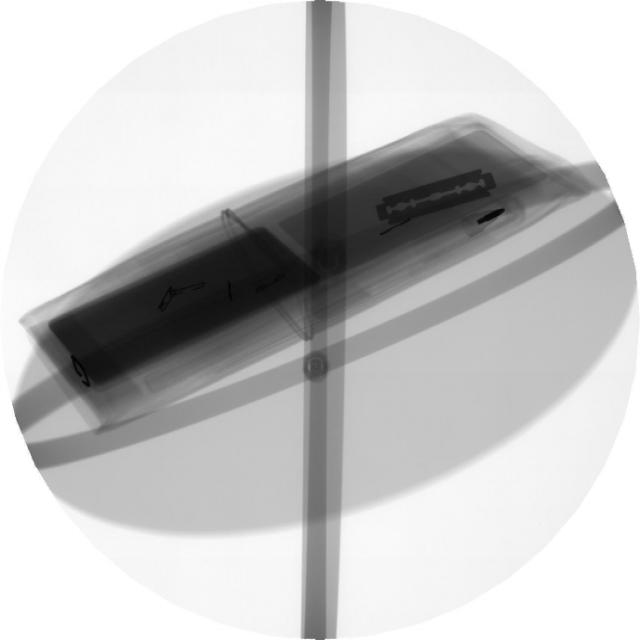BLADE: (371, 165, 506, 232)
